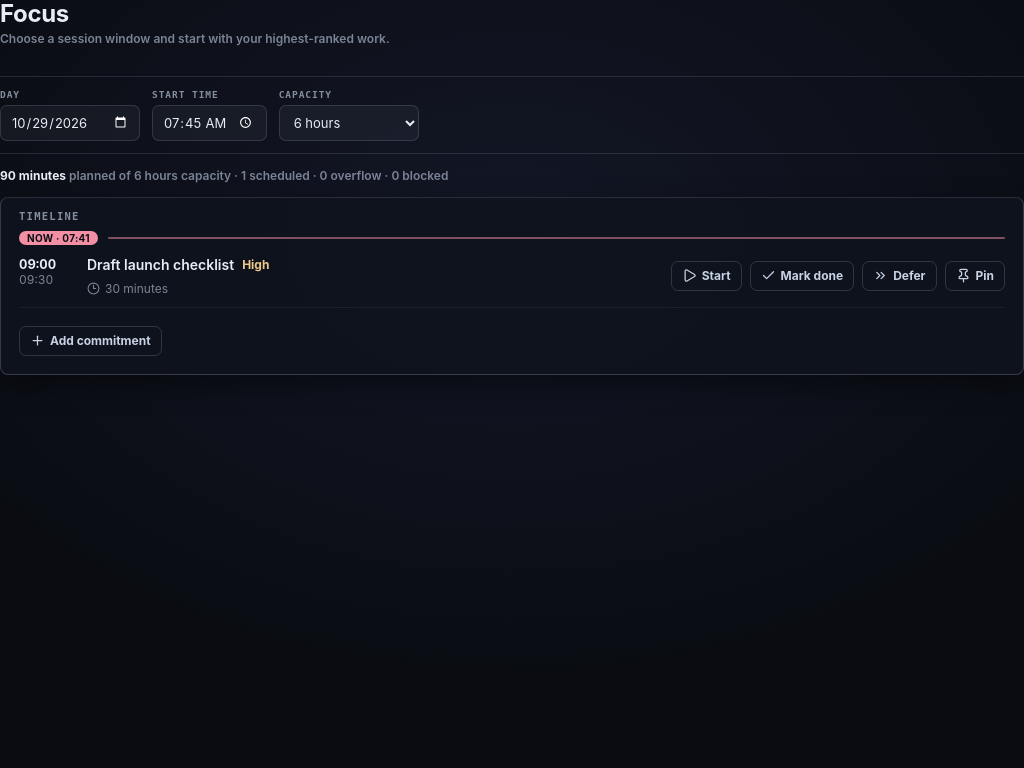
Test case: FocusPage › opens the peek panel over the plan when a row is clicked
Click the link "Draft launch checklist".
click(161, 265)  # box x1=87 y1=256 x2=234 y2=274
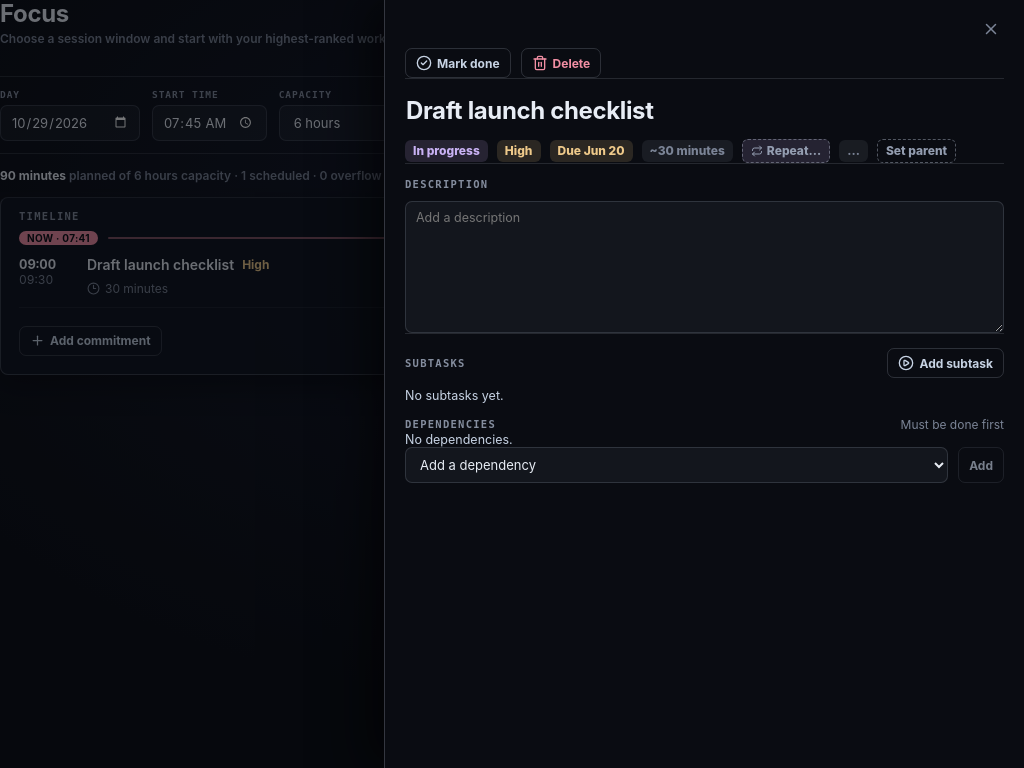
Check: the heading "Timeline" is shown, box x1=19 y1=210 x2=80 y2=222
Check: the dialog named "Task details" is shown
